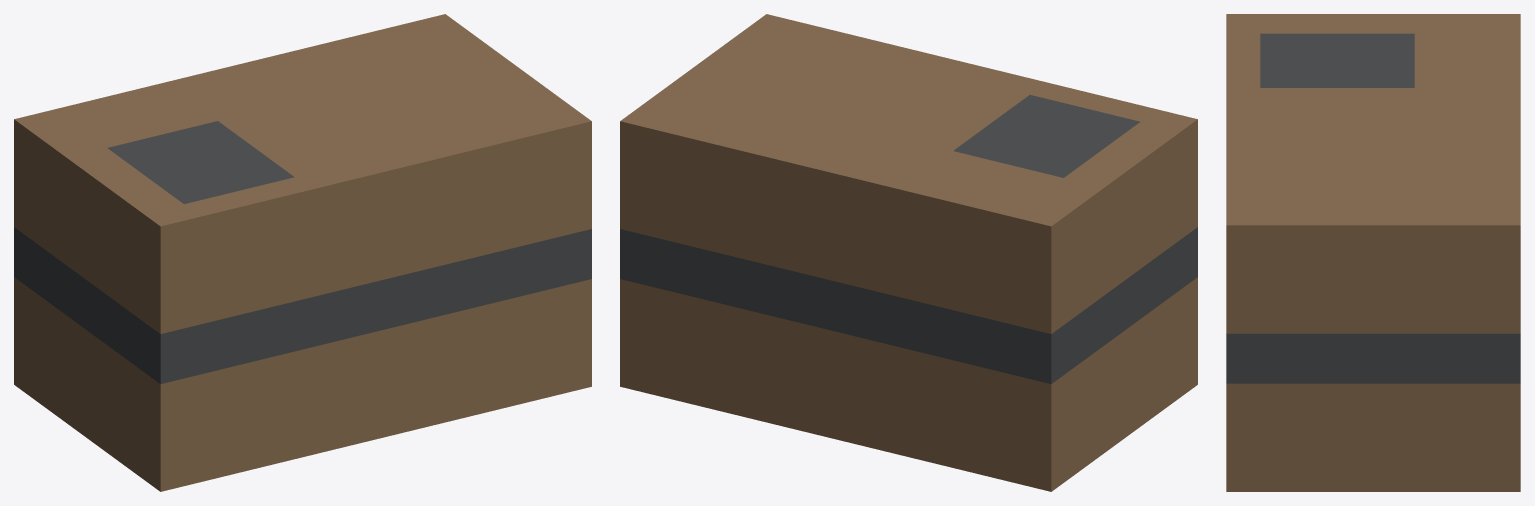
File: SM_Props_Interior_Generic_Warehouse_Carton_Box_02.fbx
The picture shows the model from 3 angles, left to right: view 1: azimuth 30°, elevation 25°; view 2: azimuth 150°, elevation 25°; view 3: azimuth 270°, elevation 25°; orthographic projection.
Visible parts, largest first — view 1: SM_Props_Interior_Generic_Warehouse_Carton_Box_02; view 2: SM_Props_Interior_Generic_Warehouse_Carton_Box_02; view 3: SM_Props_Interior_Generic_Warehouse_Carton_Box_02.
Part boxes in pixels (<box>): SM_Props_Interior_Generic_Warehouse_Carton_Box_02: <box>14,14,591,491</box>; SM_Props_Interior_Generic_Warehouse_Carton_Box_02: <box>620,14,1197,491</box>; SM_Props_Interior_Generic_Warehouse_Carton_Box_02: <box>1226,14,1520,491</box>.
Bounding box in the file's own units: 68 × 40 × 40.
